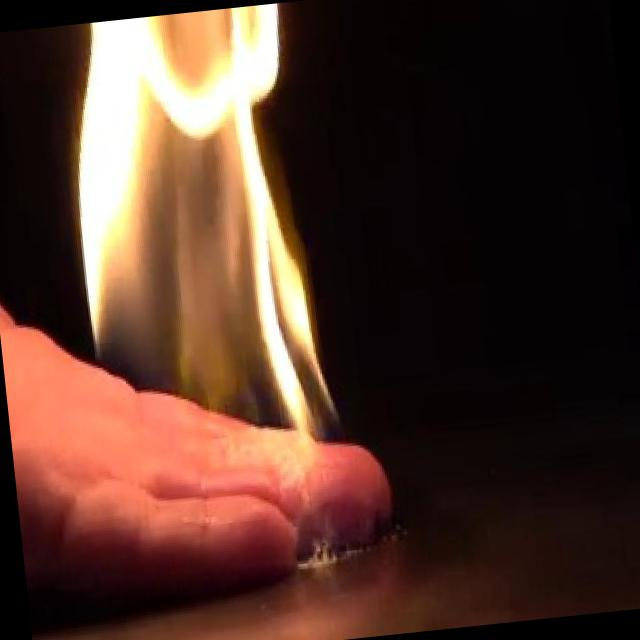Fire: (38, 1, 346, 482)
